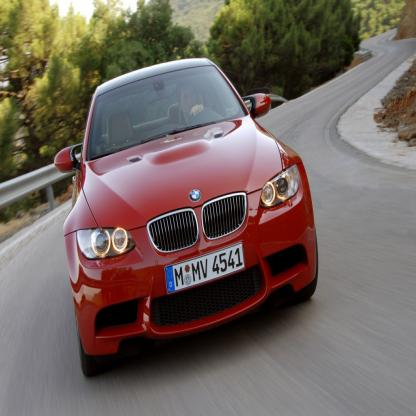Vehicle: (54, 58, 320, 383)
